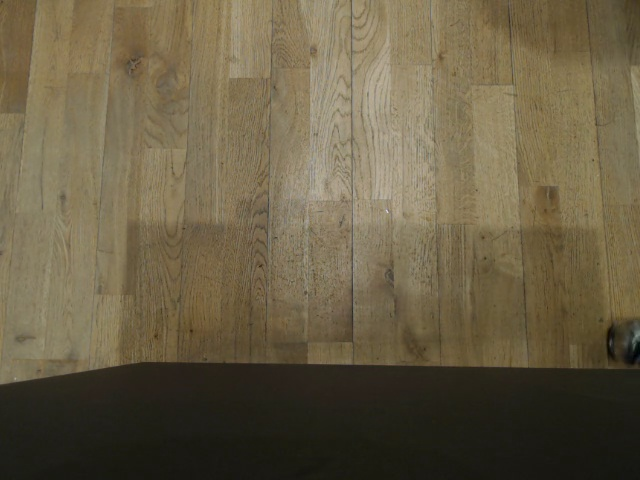beer: (595, 310, 640, 368)
